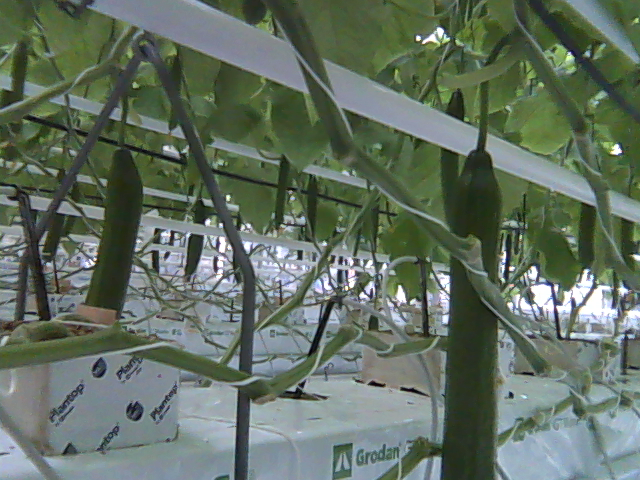concombre: (438, 141, 507, 480)
